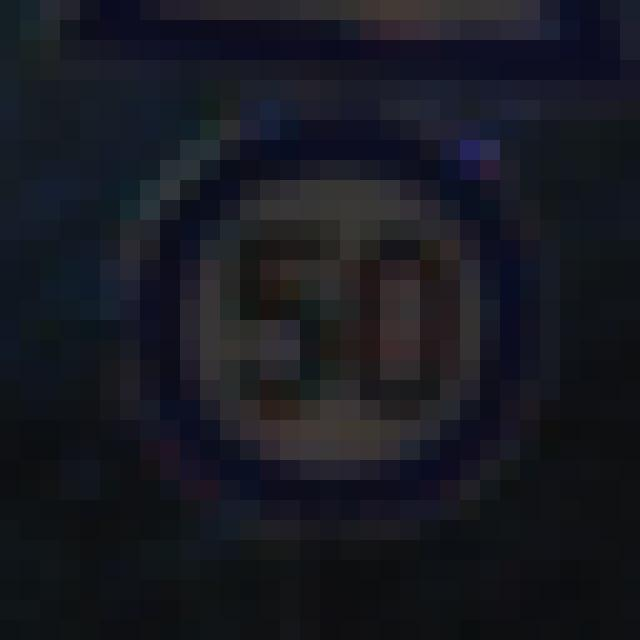SPEED LIMIT 50: (132, 138, 556, 496)
